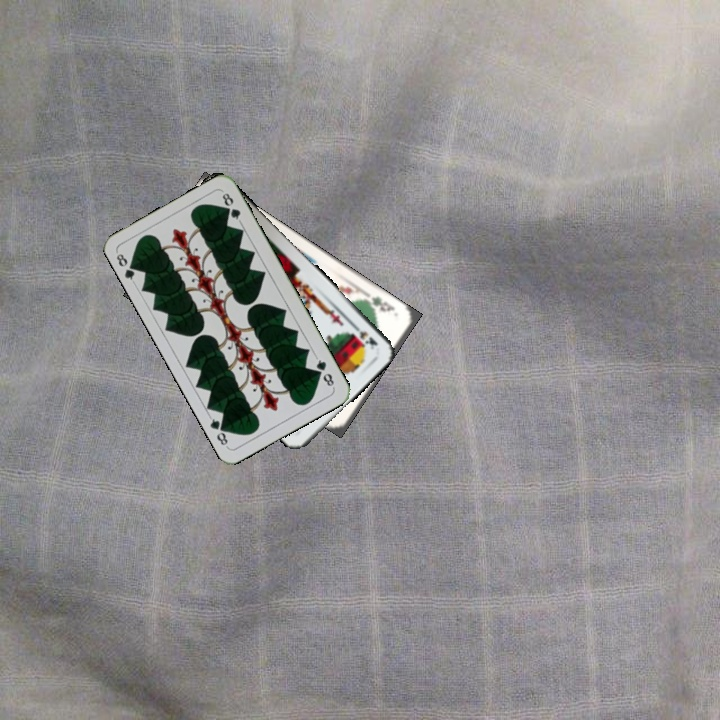G8: (112, 249, 141, 286), (311, 353, 337, 390)
GK: (363, 292, 398, 315)
SK: (348, 319, 380, 352)
